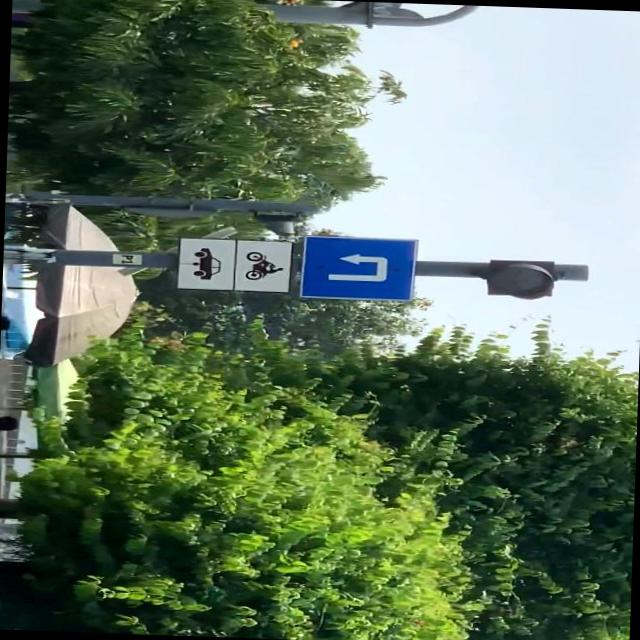I-409: (303, 235, 417, 302)
